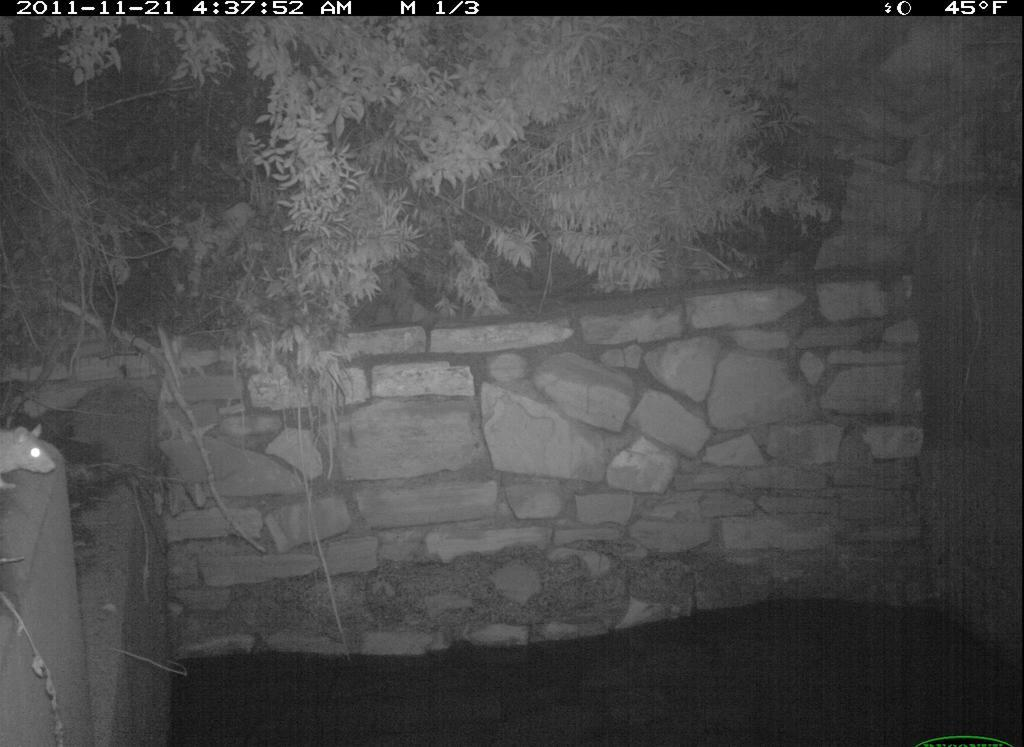rodent: (2, 408, 73, 512)
